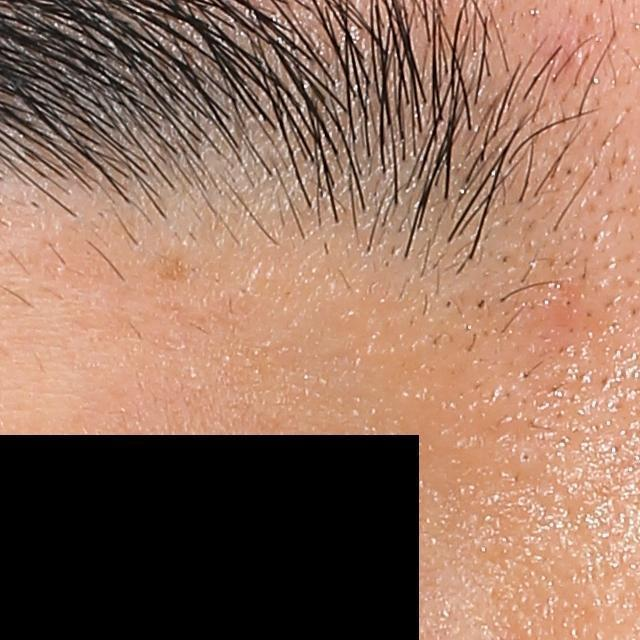comedo: (516, 442, 537, 467)
